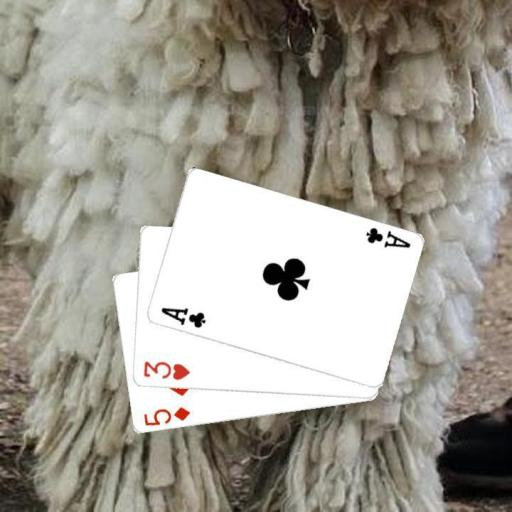card-corner: (157, 304, 207, 330), (362, 224, 412, 250), (140, 404, 191, 428), (140, 358, 191, 382)
